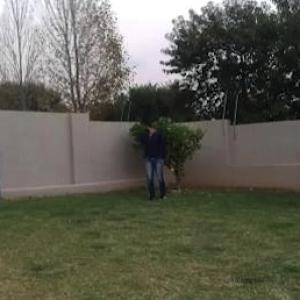follow: (144, 116, 166, 206)
